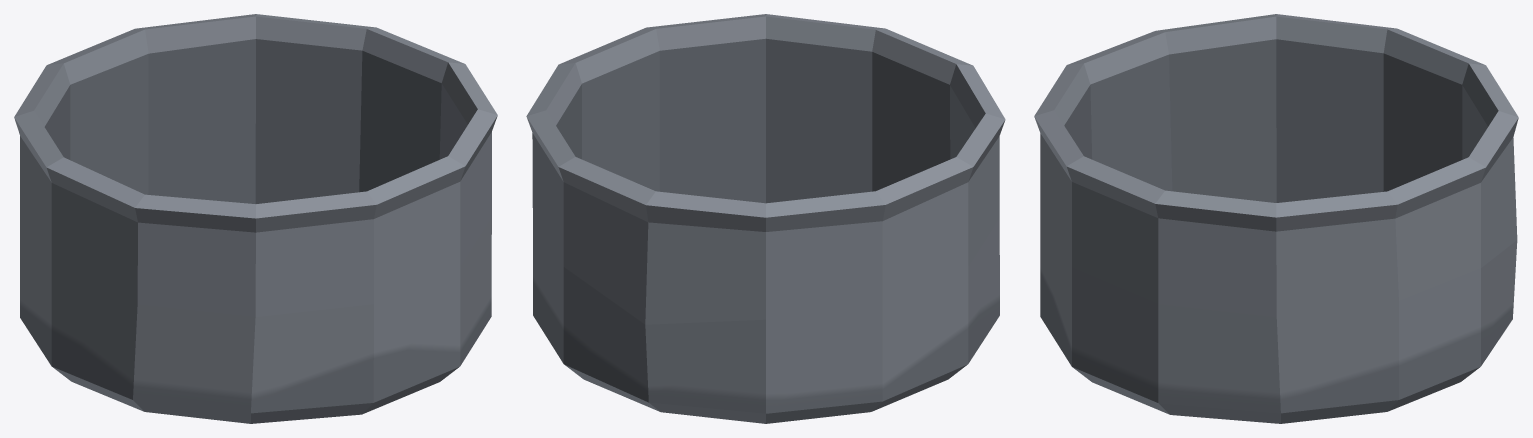
The model's file is SM_Prop_Pot_Large_01.fbx.
3 views of the same model, side by side, from view 1: azimuth 30°, elevation 25°; view 2: azimuth 150°, elevation 25°; view 3: azimuth 270°, elevation 25° (orthographic).
Visible parts, largest first — view 1: SM_Prop_Pot_Large_01; view 2: SM_Prop_Pot_Large_01; view 3: SM_Prop_Pot_Large_01.
Boxes of the visible parts, box(x1,y1,x2,y2) form: SM_Prop_Pot_Large_01: box(14, 14, 497, 423); SM_Prop_Pot_Large_01: box(526, 14, 1005, 423); SM_Prop_Pot_Large_01: box(1034, 14, 1518, 423).
Bounding box in the file's own units: 130 × 67.58 × 130.
